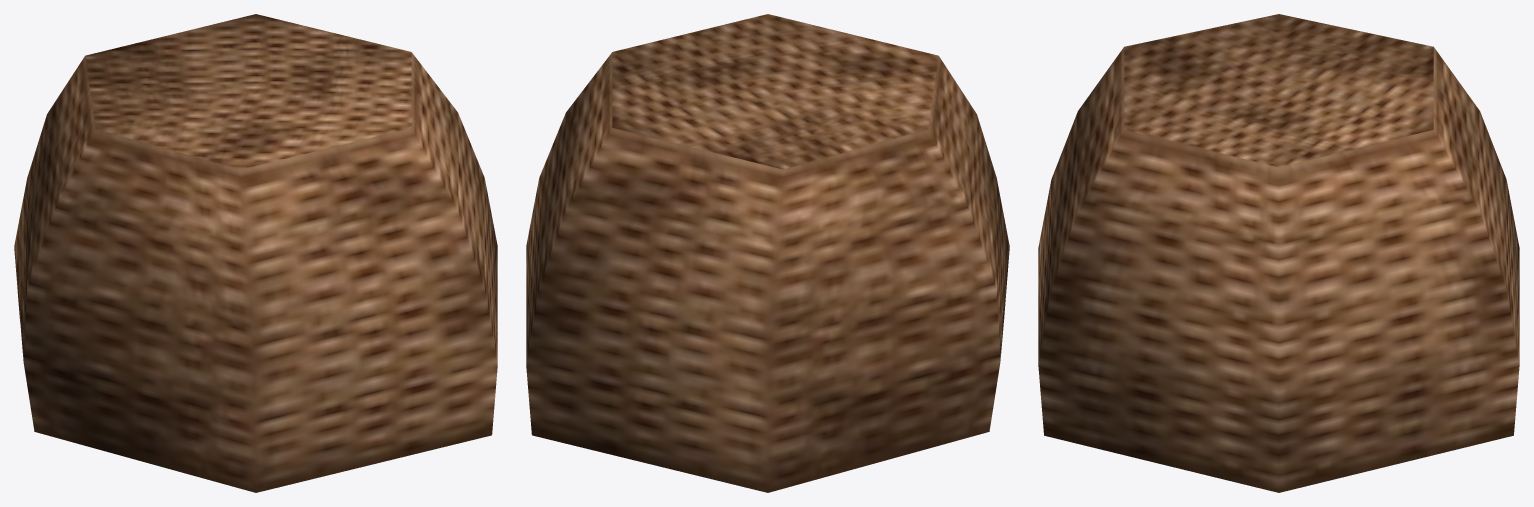
Rendered from basket_high.fbx.
The picture shows the model from 3 angles, left to right: view 1: azimuth 30°, elevation 25°; view 2: azimuth 150°, elevation 25°; view 3: azimuth 270°, elevation 25°; orthographic projection.
Parts seen in each view (by area): view 1: basket_group; view 2: basket_group; view 3: basket_group.
Part boxes in pixels (x1=…): basket_group: x1=14, y1=14, x2=497, y2=492; basket_group: x1=526, y1=14, x2=1009, y2=492; basket_group: x1=1038, y1=14, x2=1519, y2=492.
Size of the model in its own units: 91.82 by 53.26 by 81.1.
1 material, 1 textured.
